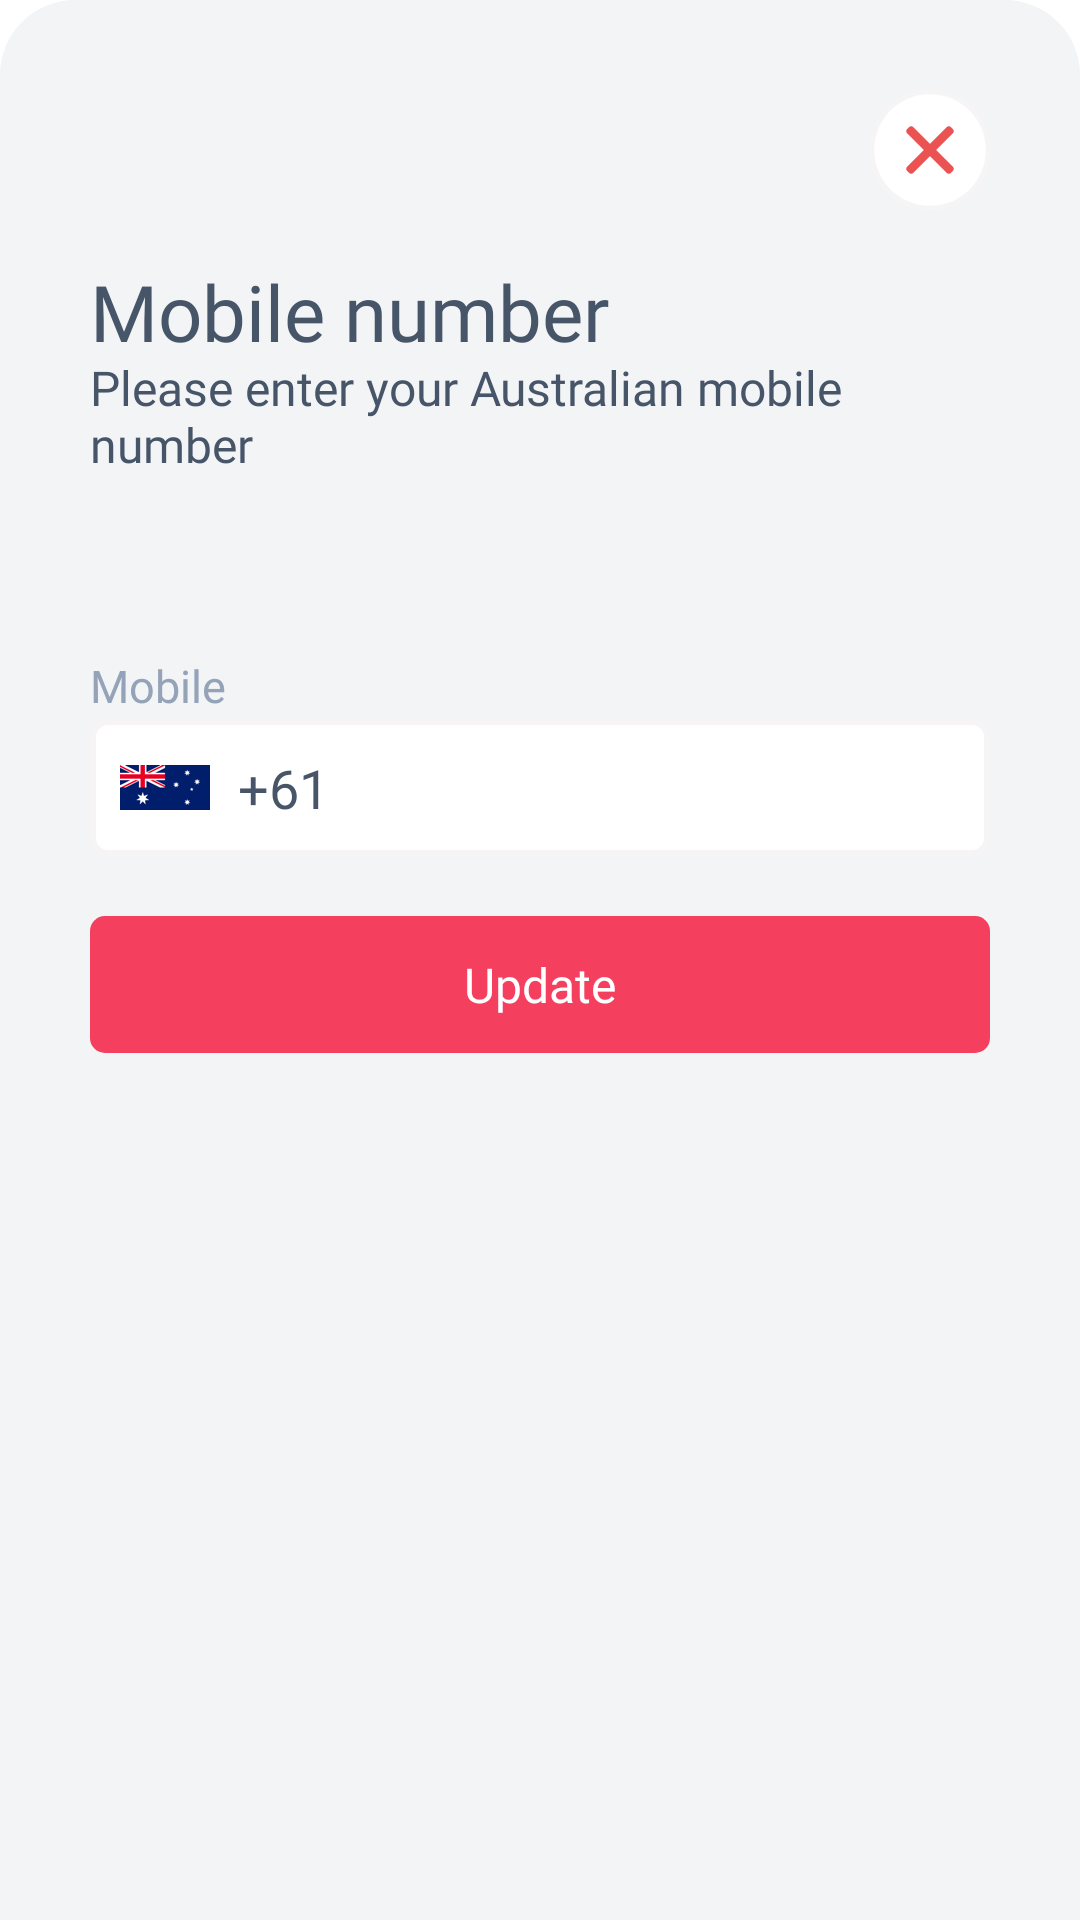

Icons on this 1080 x 1920 Android screen, each with its box as (x1, y1, x2, y2):
aus flag: (120, 765, 210, 810)
close: (874, 94, 986, 206)
